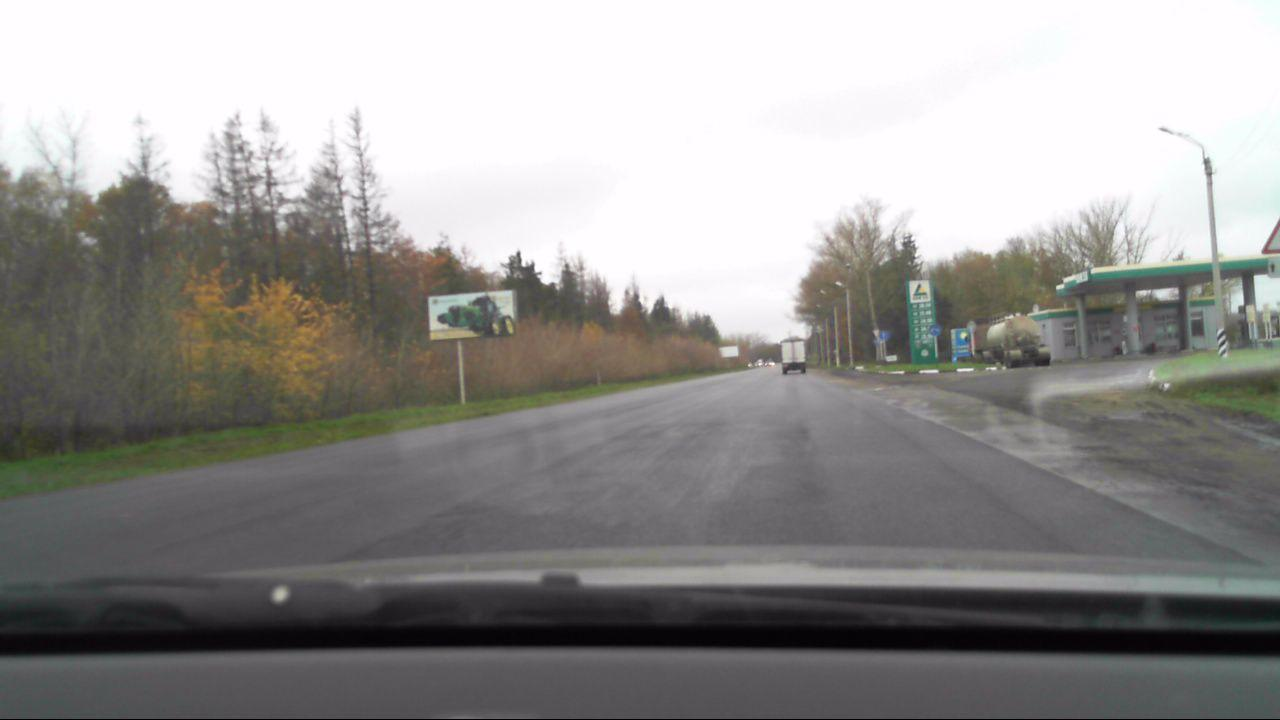4_1_1: (879, 330, 888, 341)
4_2_3: (926, 321, 943, 337)
